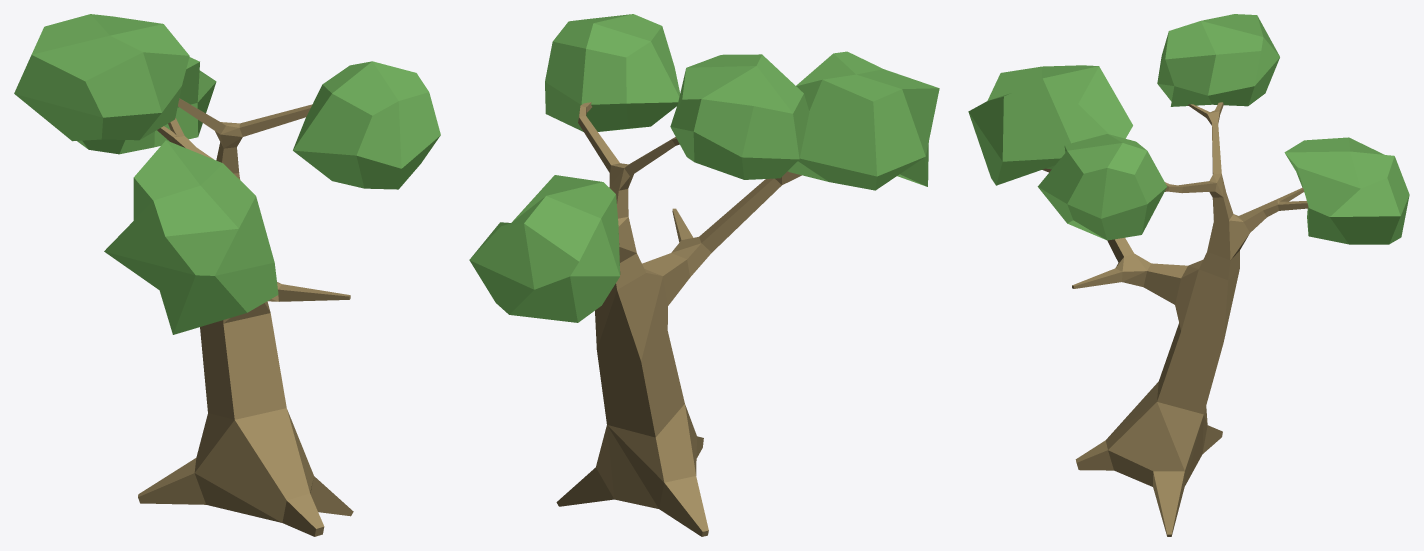
The model's file is AveraTree1.fbx.
3 renders of one model, left to right at view 1: azimuth 30°, elevation 25°; view 2: azimuth 150°, elevation 25°; view 3: azimuth 270°, elevation 25°, orthographic. The views are drawn at different scales.
Parts seen in each view (by area): view 1: TreeTrunk1, Leaves1.1, Leaves1.3, Leaves1.2, Leaves1.4; view 2: TreeTrunk1, Leaves1.4, Leaves1.1, Leaves1.3, Leaves1.2; view 3: TreeTrunk1, Leaves1.1, Leaves1.4, Leaves1.2, Leaves1.3.
Part boxes in pixels (x1,y1,x2,y2): TreeTrunk1: [138, 98, 353, 536]; Leaves1.1: [104, 140, 278, 334]; Leaves1.3: [14, 14, 189, 141]; Leaves1.2: [293, 61, 440, 189]; Leaves1.4: [77, 57, 216, 154]; TreeTrunk1: [556, 102, 801, 536]; Leaves1.4: [469, 175, 620, 322]; Leaves1.1: [788, 51, 939, 190]; Leaves1.3: [670, 54, 809, 179]; Leaves1.2: [545, 14, 680, 131]; TreeTrunk1: [1042, 102, 1308, 536]; Leaves1.1: [968, 65, 1132, 185]; Leaves1.4: [1284, 137, 1409, 244]; Leaves1.2: [1037, 134, 1167, 240]; Leaves1.3: [1157, 14, 1279, 106].
Bounding box in the file's own units: 841 × 1175 × 1099.
